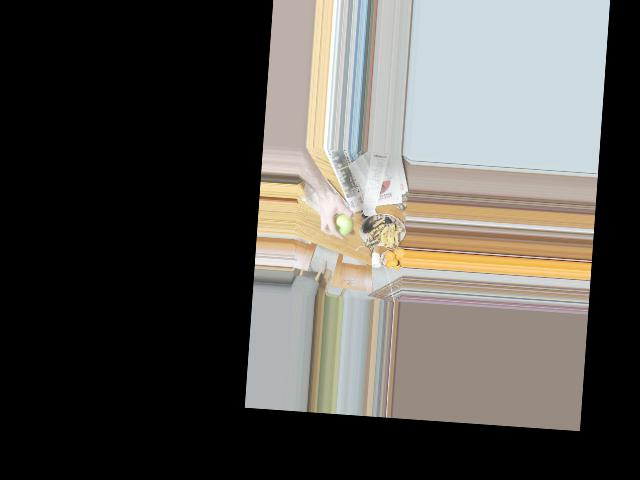apple: (331, 212, 355, 238)
